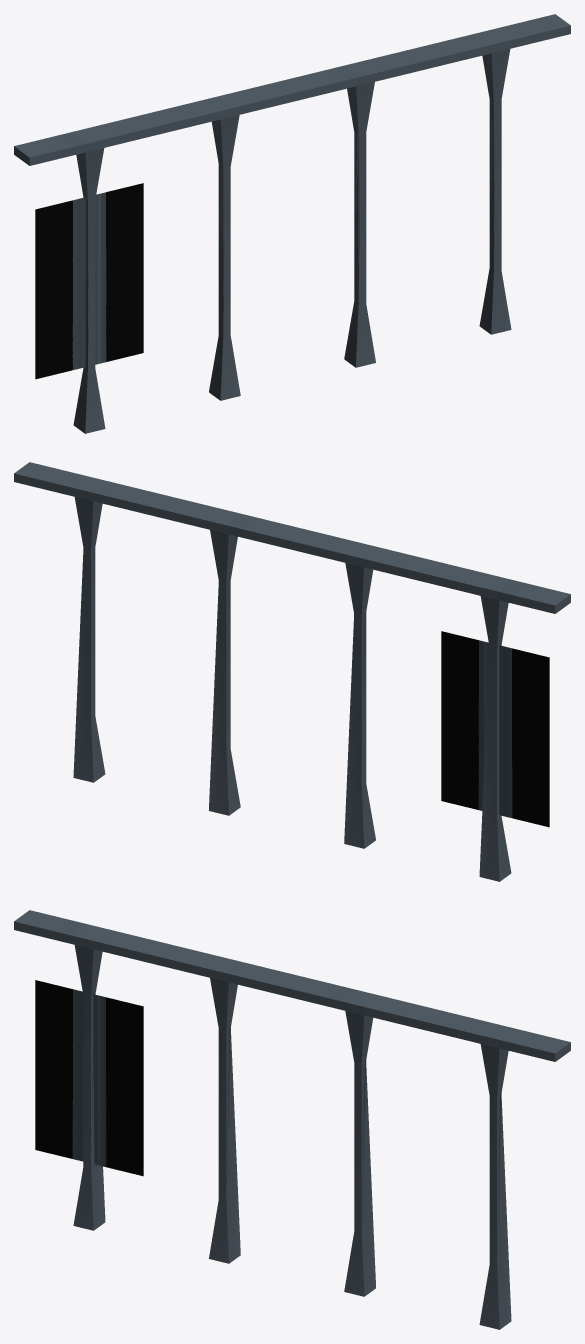
File: objects_un_c01handrail02.gltf
The picture shows the model from 3 angles, top to bottom: view 1: azimuth 30°, elevation 25°; view 2: azimuth 150°, elevation 25°; view 3: azimuth 330°, elevation 25°; orthographic projection.
Visible parts, largest first — view 1: um_objects_un_c01handrail02_model_lod0Shape:objects_un_c01ha (×2), um_objects_un_c01handrail02_model_lod1Shape:objects_un_c01ha, um_objects_un_c01handrail02_model_lod2Shape:objects_un_c01ha (×2); view 2: um_objects_un_c01handrail02_model_lod0Shape:objects_un_c01ha (×2), um_objects_un_c01handrail02_model_lod2Shape:objects_un_c01ha (×2); view 3: um_objects_un_c01handrail02_model_lod0Shape:objects_un_c01ha (×2), um_objects_un_c01handrail02_model_lod2Shape:objects_un_c01ha (×2), um_objects_un_c01handrail02_model_lod1Shape:objects_un_c01ha.
Part boxes in pixels (x1,y1,x2,y2): um_objects_un_c01handrail02_model_lod0Shape:objects_un_c01ha (×2): (14, 14, 570, 433); um_objects_un_c01handrail02_model_lod1Shape:objects_un_c01ha: (86, 98, 501, 430); um_objects_un_c01handrail02_model_lod2Shape:objects_un_c01ha (×2): (37, 99, 493, 412); um_objects_un_c01handrail02_model_lod0Shape:objects_un_c01ha (×2): (14, 462, 570, 881); um_objects_un_c01handrail02_model_lod2Shape:objects_un_c01ha (×2): (73, 497, 548, 881); um_objects_un_c01handrail02_model_lod0Shape:objects_un_c01ha (×2): (14, 910, 570, 1329); um_objects_un_c01handrail02_model_lod2Shape:objects_un_c01ha (×2): (36, 1008, 511, 1327); um_objects_un_c01handrail02_model_lod1Shape:objects_un_c01ha: (76, 990, 503, 1266).
Size of the model in its own units: 2 by 1.03 by 0.1.
2 materials, 2 textured.
